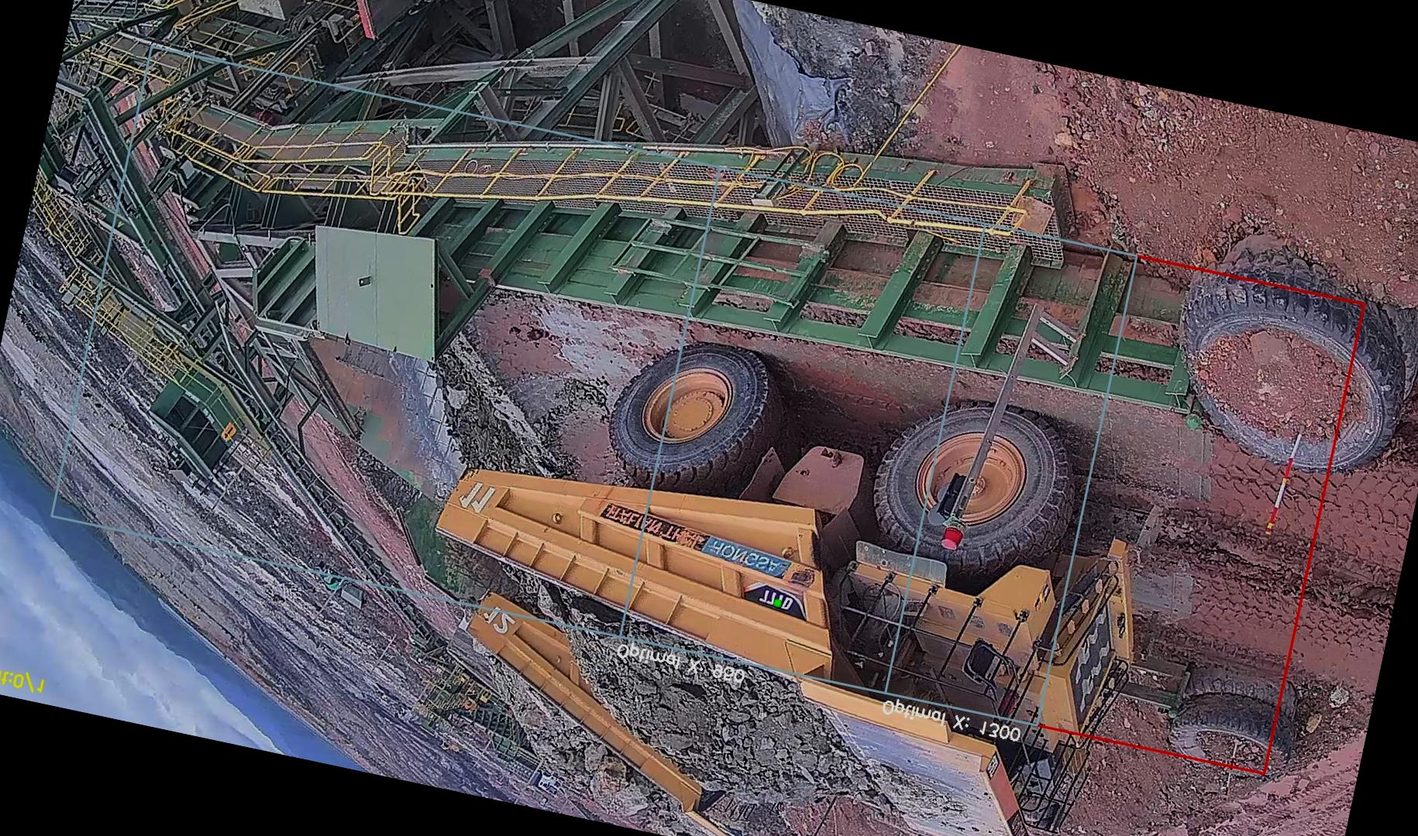company: (582, 498, 811, 585)
full_load: (552, 602, 859, 815)
mining_truck: (370, 283, 1198, 836)
tail_number: (446, 469, 508, 523)
truck_size: (734, 579, 814, 627)
